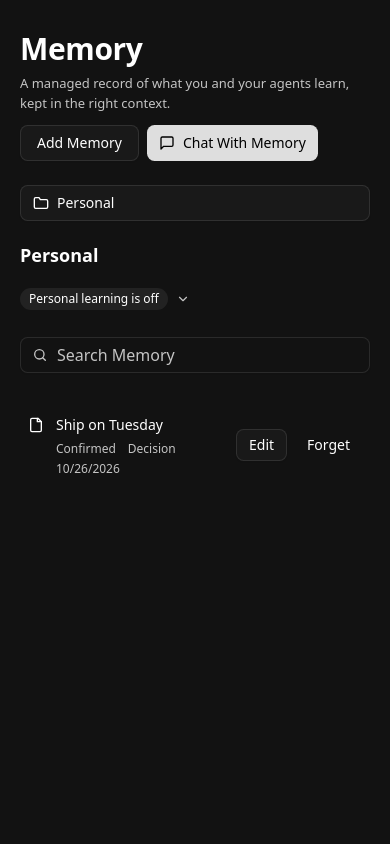
memory correction retains scope and never resubmits source provenance
Click the text "Ship on Tuesday" at (109, 424), box left=56, top=414, right=163, bottom=434
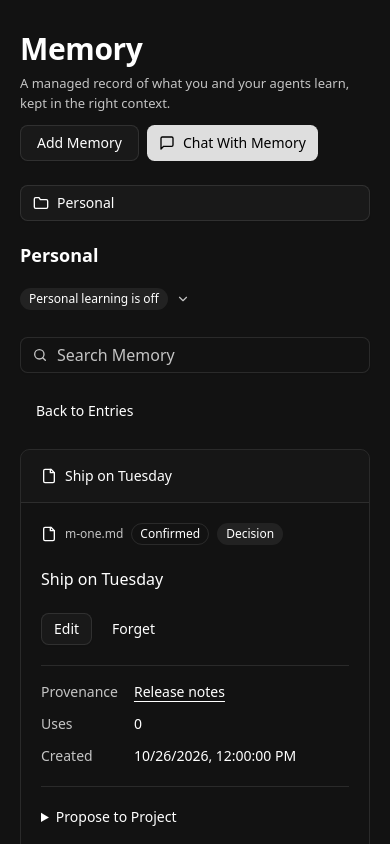
Click the button "Edit" at (67, 628), box left=41, top=612, right=92, bottom=644
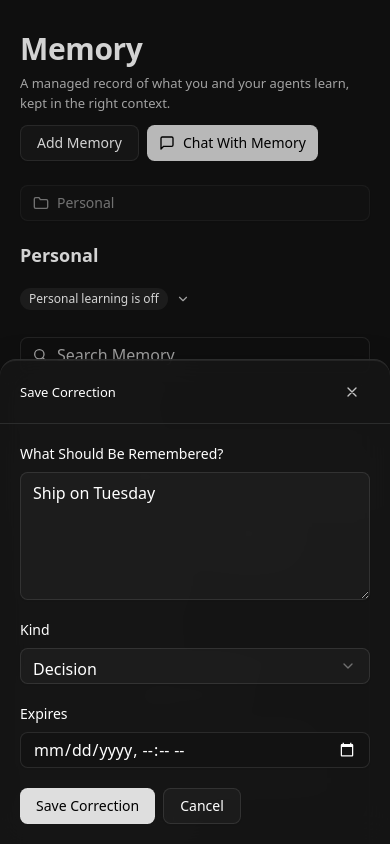
Replace the text in the text box labelled "What Should Be Remembered?" with "Ship on Wednesday" at (195, 536), box left=20, top=472, right=370, bottom=600
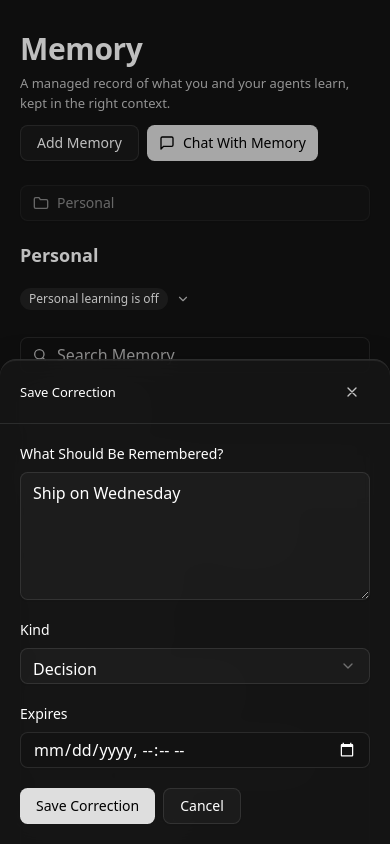
Click the button "Save Correction" at (88, 806), box left=20, top=788, right=155, bottom=824
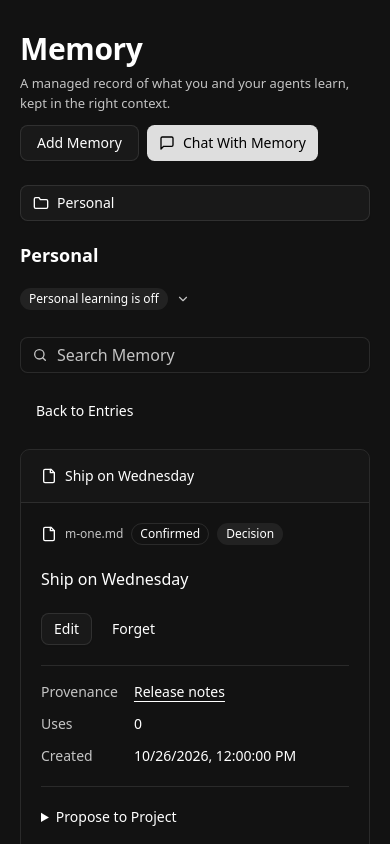
Expected: the 1st text "Ship on Wednesday" is shown, left=65, top=466, right=194, bottom=486
